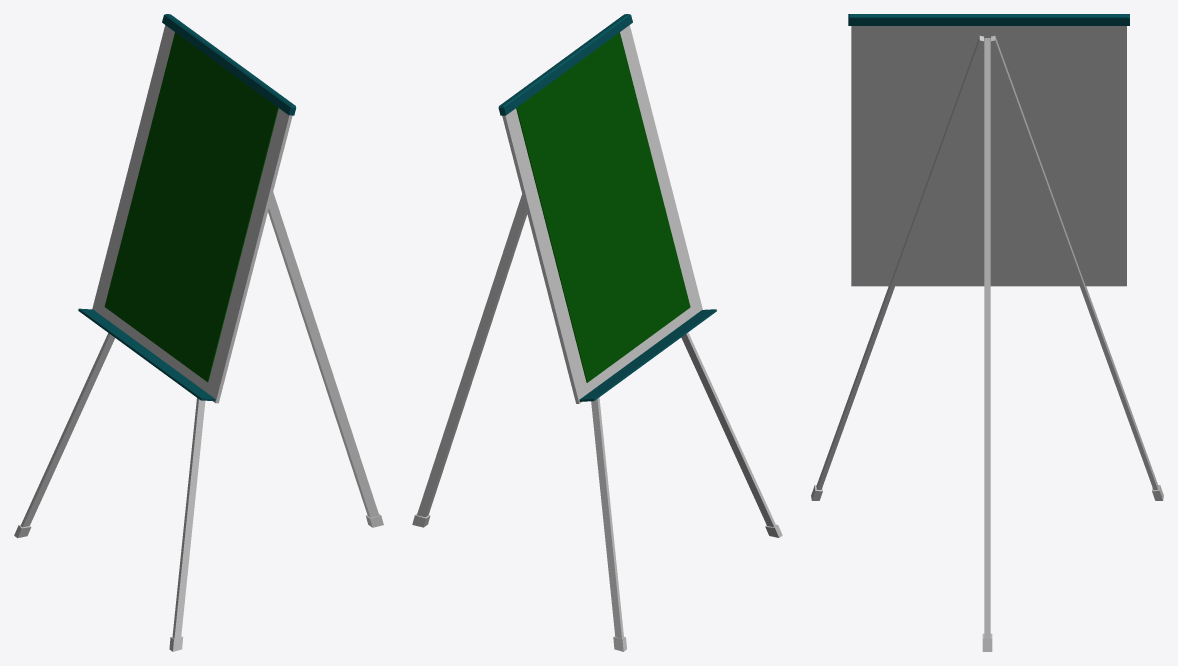
The model's file is Flipchart.fbx.
3 renders of one model, left to right at view 1: azimuth 30°, elevation 25°; view 2: azimuth 150°, elevation 25°; view 3: azimuth 270°, elevation 25°, orthographic. The views are drawn at different scales.
Parts seen in each view (by area): view 1: Mesh; view 2: Mesh; view 3: Mesh.
Boxes of the visible parts, x1=… form: Mesh: x1=14, y1=14, x2=383, y2=651; Mesh: x1=412, y1=14, x2=782, y2=651; Mesh: x1=811, y1=14, x2=1163, y2=651.
Size of the model in its own units: 66.01 by 109 by 63.01.
